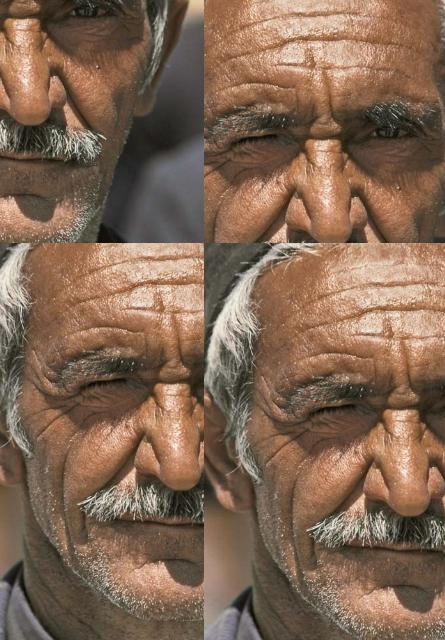bunny_line: (190, 264, 204, 286)
chin: (378, 575, 430, 605)
crows_feet: (260, 404, 300, 444)
forehead: (247, 0, 337, 34), (366, 297, 444, 327), (350, 272, 426, 294), (314, 340, 367, 368), (300, 310, 348, 336), (410, 324, 445, 347), (204, 0, 233, 27)
frown_line: (386, 377, 422, 419), (162, 243, 179, 259)
gummy_smile: (302, 160, 338, 212), (332, 460, 368, 510), (137, 322, 165, 364), (436, 466, 445, 521)
masseter: (279, 481, 307, 547)
